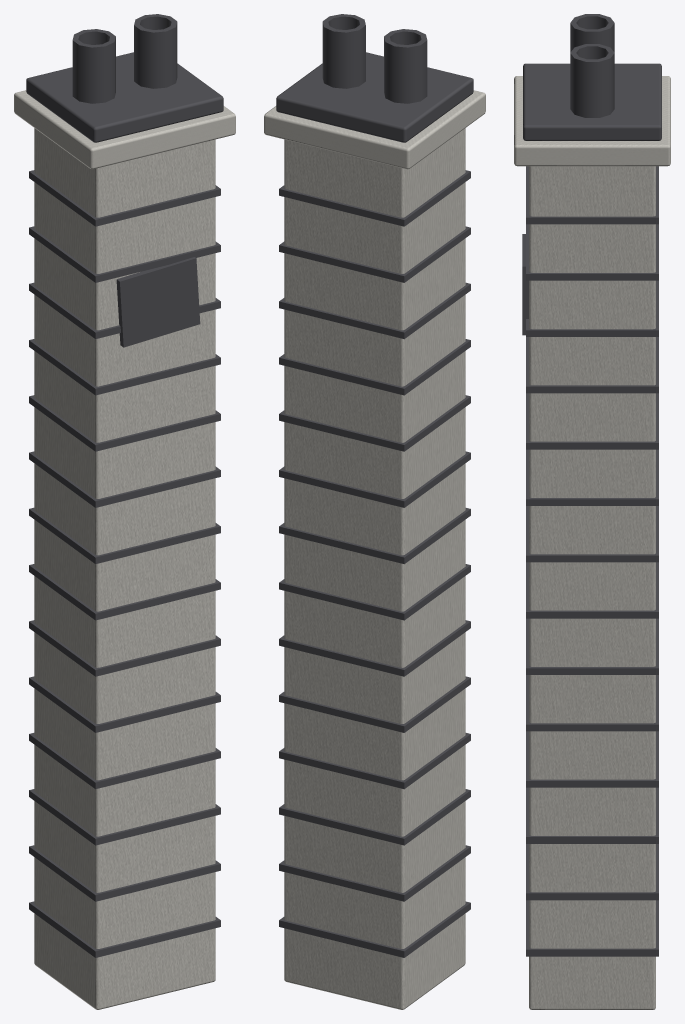
Rendered from halloween-slasher-street-block-chimney-stack-1f855b5a__27275.glb.
3 renders of one model, left to right at view 1: azimuth 30°, elevation 25°; view 2: azimuth 150°, elevation 25°; view 3: azimuth 270°, elevation 25°, orthographic.
Visible parts, largest first — view 1: block-chimney-stack; view 2: block-chimney-stack; view 3: block-chimney-stack.
Boxes of the visible parts, left/top/right/bottom form: block-chimney-stack: left=14, top=14, right=235, bottom=1009; block-chimney-stack: left=264, top=14, right=485, bottom=1009; block-chimney-stack: left=514, top=14, right=670, bottom=1009.
Size of the model in its own units: 1.14 by 7.04 by 1.06.
Materials: 2 (1 with a texture image).
